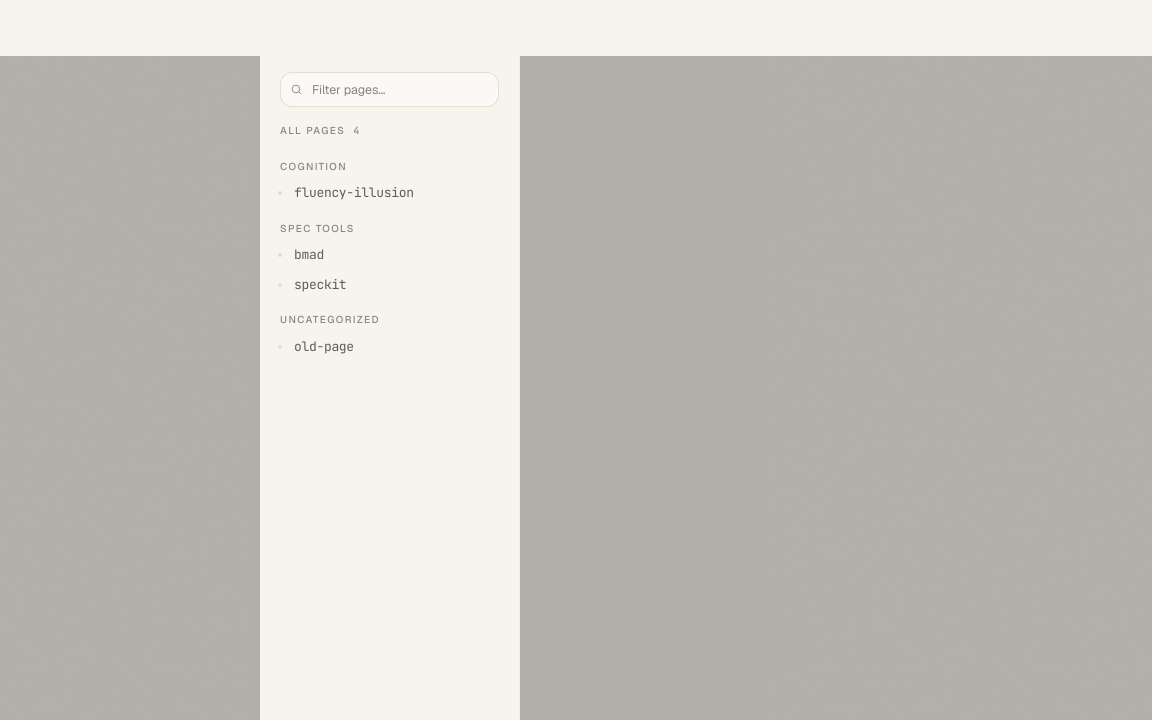
WikiDrawer topic grouping › drops empty topic sections when filtering
In the search field: (400, 90) [312, 78, 489, 101], type "bmad"
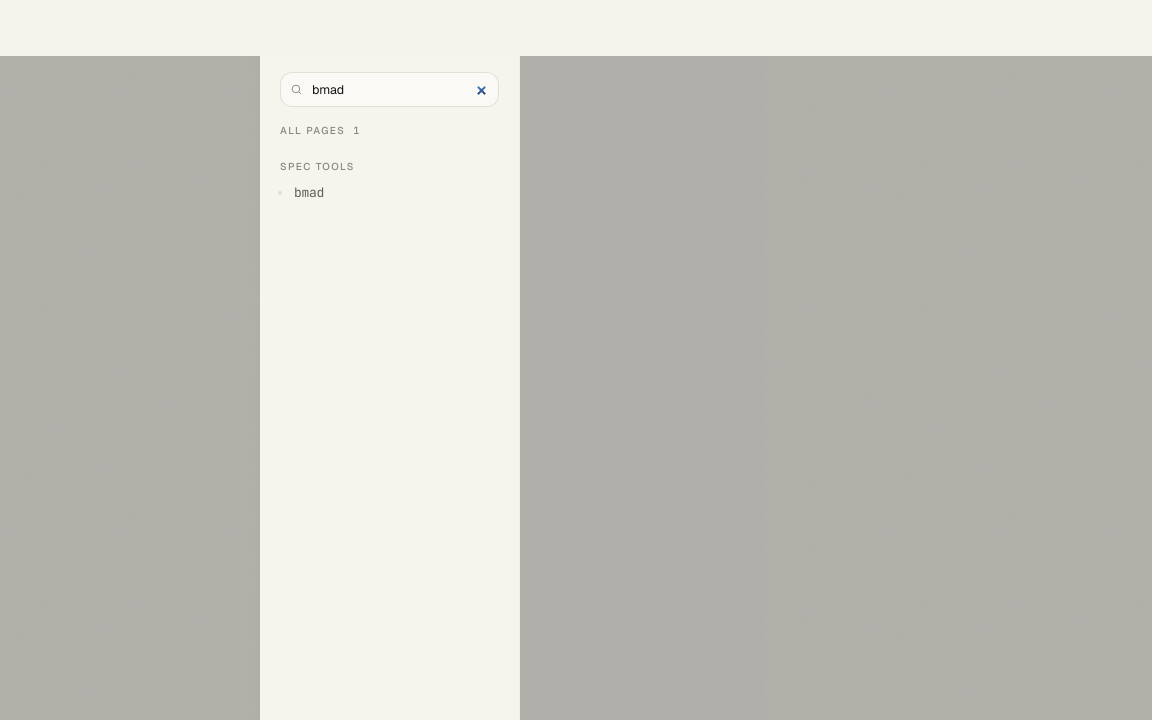
Expected: the elements with test id "topic-heading" read "Spec Tools", in this order, [280, 160, 355, 173]
